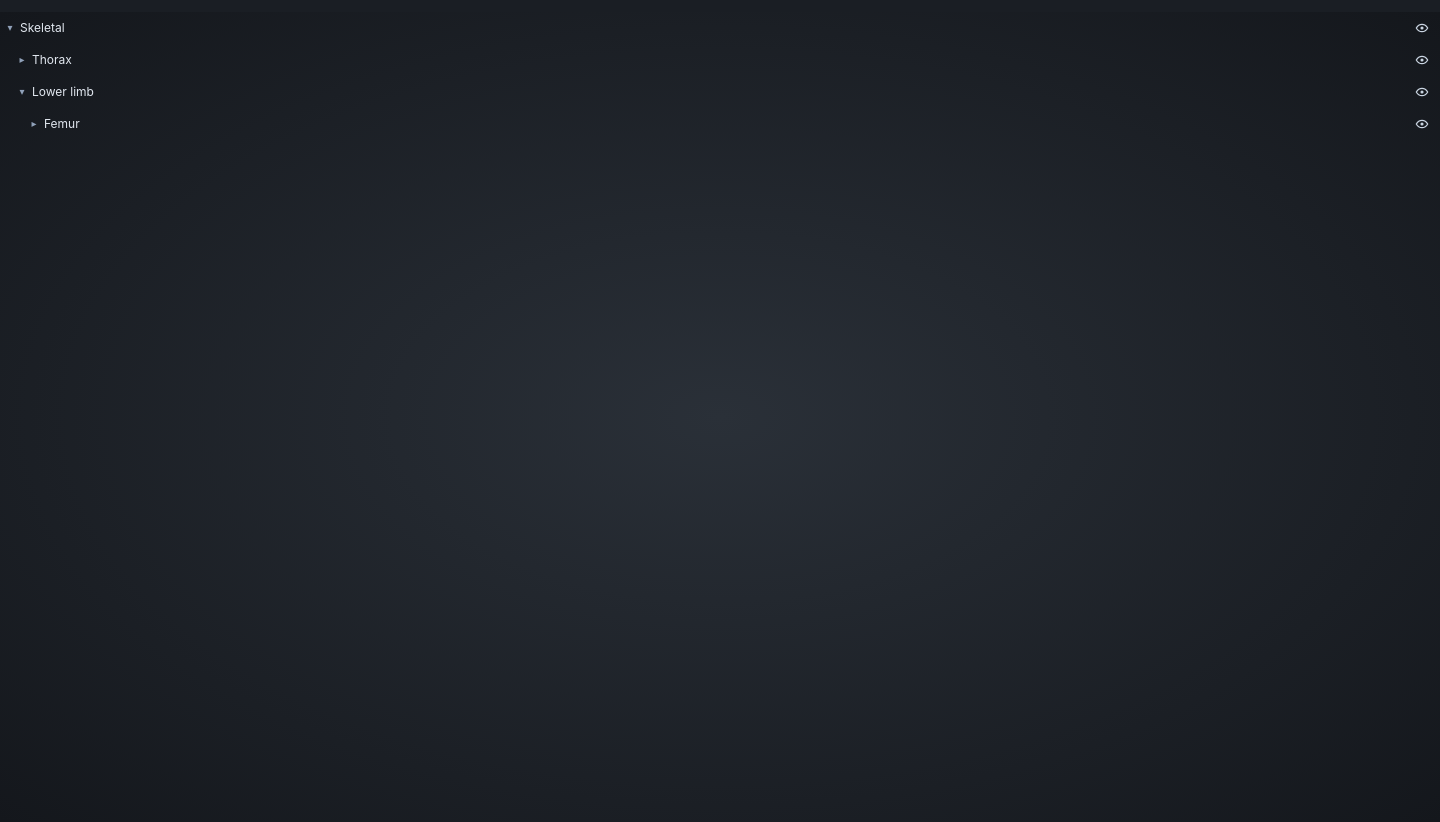
Test: TreeView › surfaces an inline alert if revealAndFocus rejects
Click the list item "▸ Femur" at (56, 124), box [32,116,80,131]
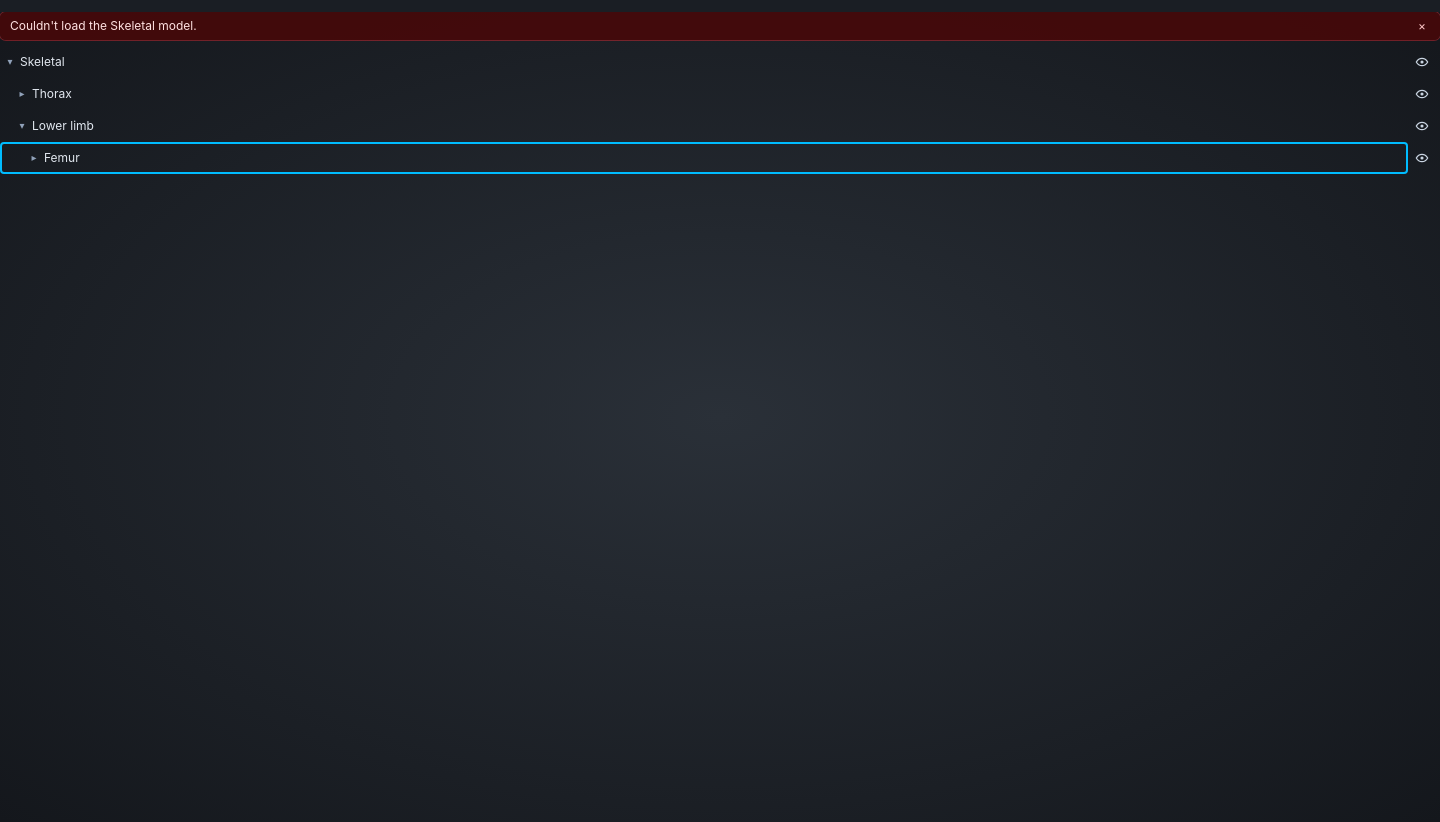
expect the message shows "Couldn't load the Skeletal model.": met, box [10,18,197,33]
